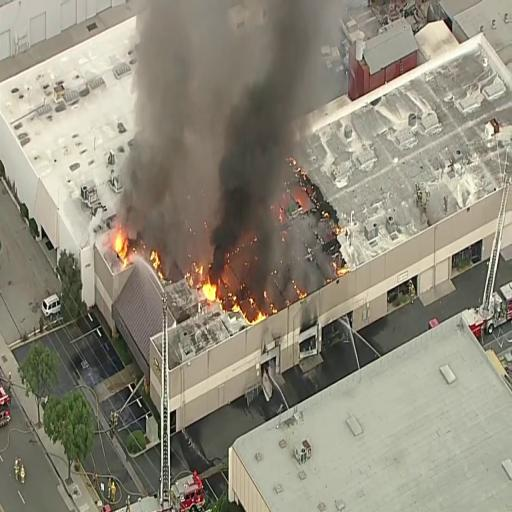fire: (203, 272, 220, 304)
smoke: (198, 34, 291, 245)
